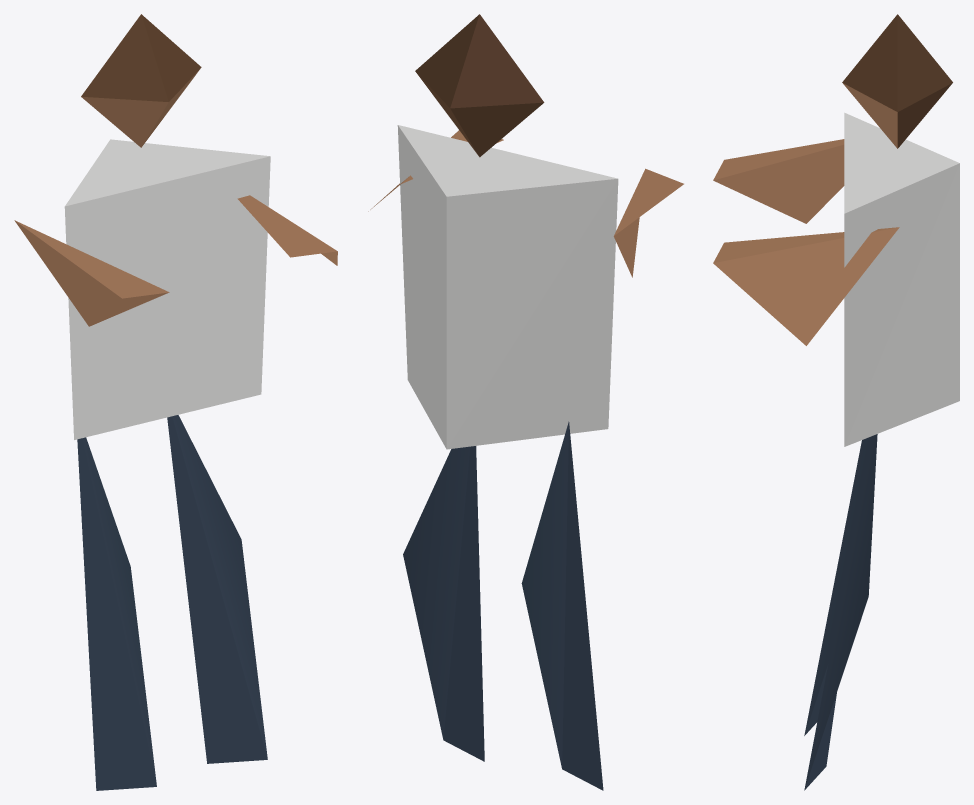
File: fan-09.glb
The picture shows the model from 3 angles, left to right: view 1: azimuth 30°, elevation 25°; view 2: azimuth 150°, elevation 25°; view 3: azimuth 270°, elevation 25°; orthographic projection. The views are drawn at different scales.
Visible parts, largest first — view 1: fan-09; view 2: fan-09; view 3: fan-09.
Boxes of the visible parts, <box> form: fan-09: <box>14,14,337,790</box>; fan-09: <box>368,14,683,790</box>; fan-09: <box>713,14,959,790</box>.
Bounding box in the file's own units: 0.725 × 1.83 × 0.555.
